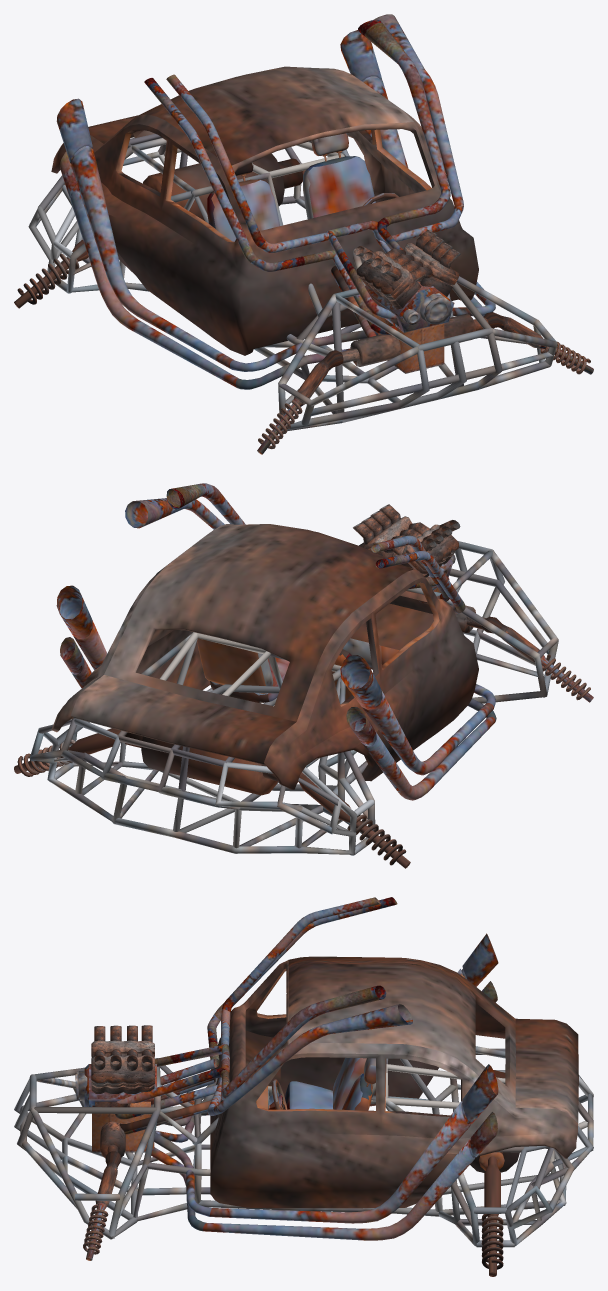
Rendered from Coche_Bueno_03_carroceria.fbx.
The picture shows the model from 3 angles, top to bottom: view 1: azimuth 30°, elevation 25°; view 2: azimuth 150°, elevation 25°; view 3: azimuth 270°, elevation 25°; orthographic projection. The views are drawn at different scales.
Parts seen in each view (by area): view 1: Plane.004; view 2: Plane.004; view 3: Plane.004.
Boxes of the visible parts, left/top/right/bottom form: Plane.004: left=14, top=14, right=593, bottom=454; Plane.004: left=14, top=483, right=593, bottom=868; Plane.004: left=14, top=897, right=593, bottom=1276.
Bounding box in the file's own units: 736 × 482 × 991.
